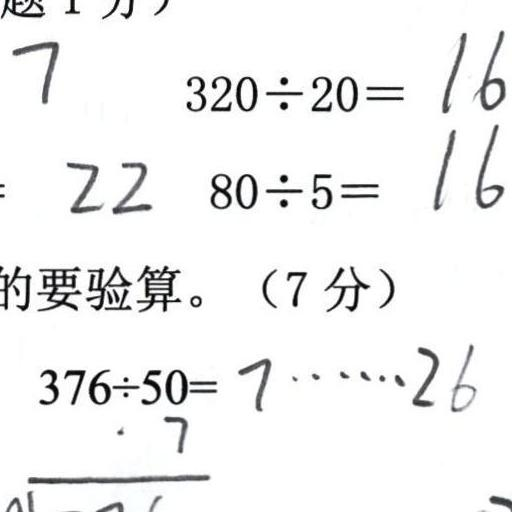ans: (238, 342, 480, 414), (424, 118, 504, 211), (435, 24, 507, 113), (60, 150, 152, 217), (7, 32, 60, 103)
